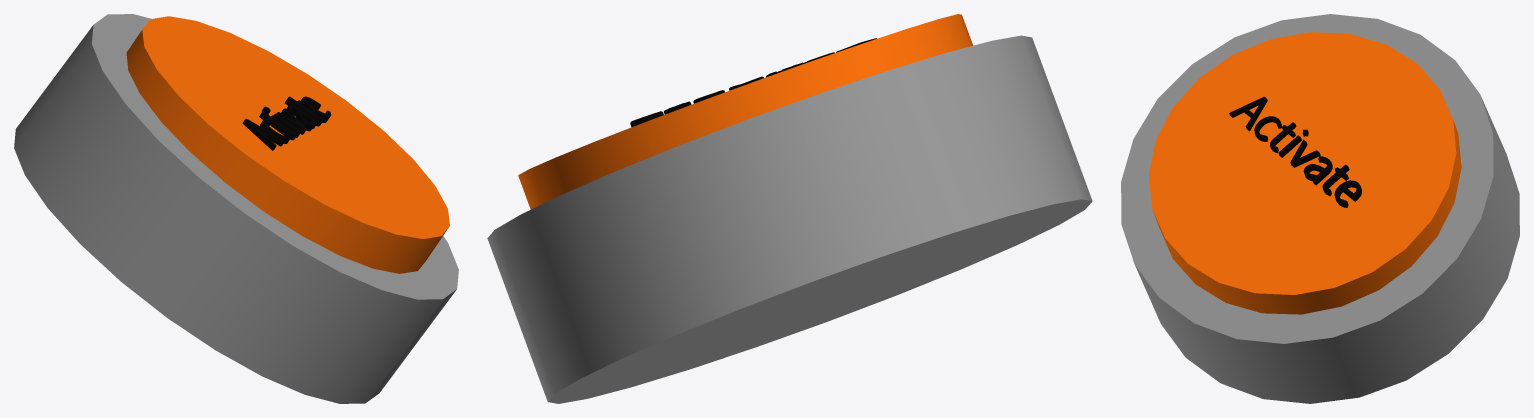
Rendered from morse code hologram puzzle lock activation button.fbx.
3 views of the same model, side by side, from view 1: azimuth 30°, elevation 25°; view 2: azimuth 150°, elevation 25°; view 3: azimuth 270°, elevation 25° (orthographic). The views are drawn at different scales.
Parts seen in each view (by area): view 1: 91149e69-e051-42ce-bb9e-13fc9e472af7; view 2: 91149e69-e051-42ce-bb9e-13fc9e472af7; view 3: 91149e69-e051-42ce-bb9e-13fc9e472af7.
Part boxes in pixels (box(x1,y1,x2,y2)): 91149e69-e051-42ce-bb9e-13fc9e472af7: box(14, 14, 458, 403); 91149e69-e051-42ce-bb9e-13fc9e472af7: box(487, 14, 1092, 403); 91149e69-e051-42ce-bb9e-13fc9e472af7: box(1121, 14, 1519, 403).
Size of the model in its own units: 13583 by 11092 by 13949.
